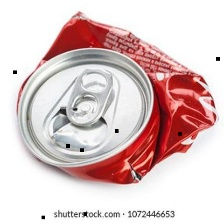can: (12, 8, 220, 187)
